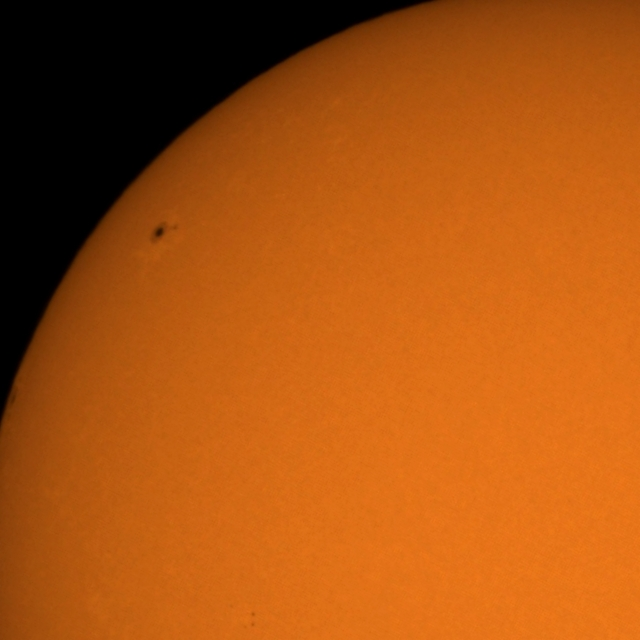sunspot: (148, 220, 179, 246), (243, 611, 256, 630), (8, 390, 18, 408), (249, 611, 256, 619)
